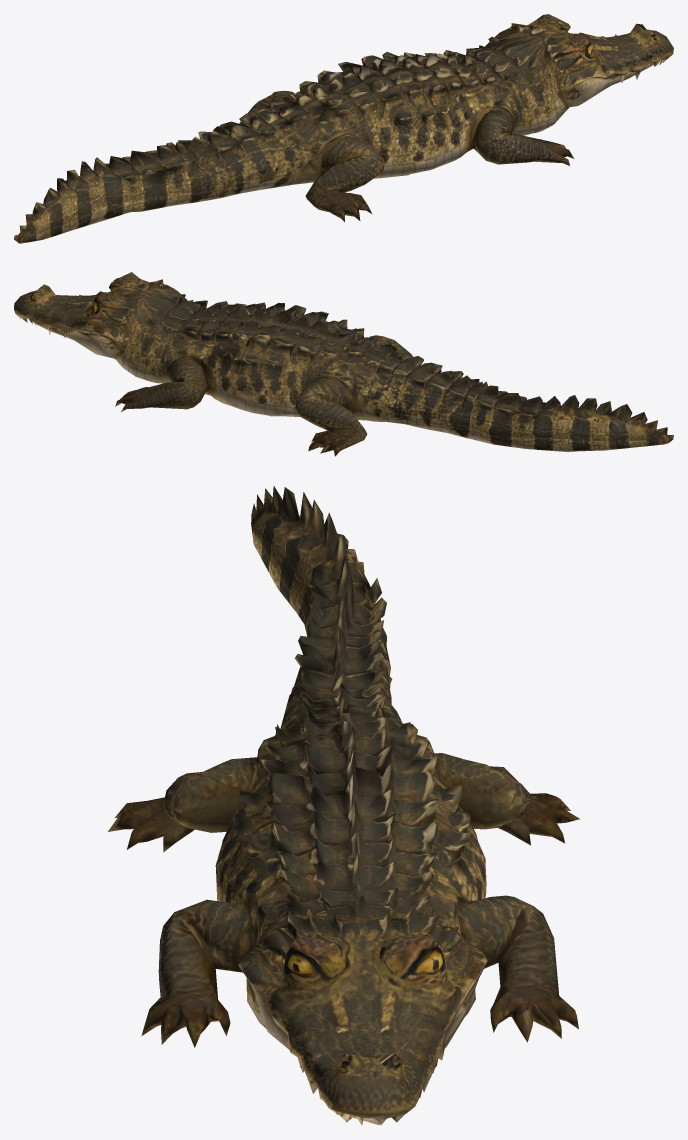
The model's file is fauna-caiman.glb.
3 views of the same model, one above another, from view 1: azimuth 30°, elevation 25°; view 2: azimuth 150°, elevation 25°; view 3: azimuth 270°, elevation 25° (orthographic). The views are drawn at different scales.
Visible parts, largest first — view 1: tripo_node_50fd8aac-097c-4496-8aeb-16b9514623ba; view 2: tripo_node_50fd8aac-097c-4496-8aeb-16b9514623ba; view 3: tripo_node_50fd8aac-097c-4496-8aeb-16b9514623ba.
Part boxes in pixels (<box>): tripo_node_50fd8aac-097c-4496-8aeb-16b9514623ba: <box>14,14,673,243</box>; tripo_node_50fd8aac-097c-4496-8aeb-16b9514623ba: <box>14,272,673,456</box>; tripo_node_50fd8aac-097c-4496-8aeb-16b9514623ba: <box>108,486,579,1125</box>.
Bounding box in the file's own units: 0.9977 × 0.1397 × 0.3266.
1 material, 1 textured.
